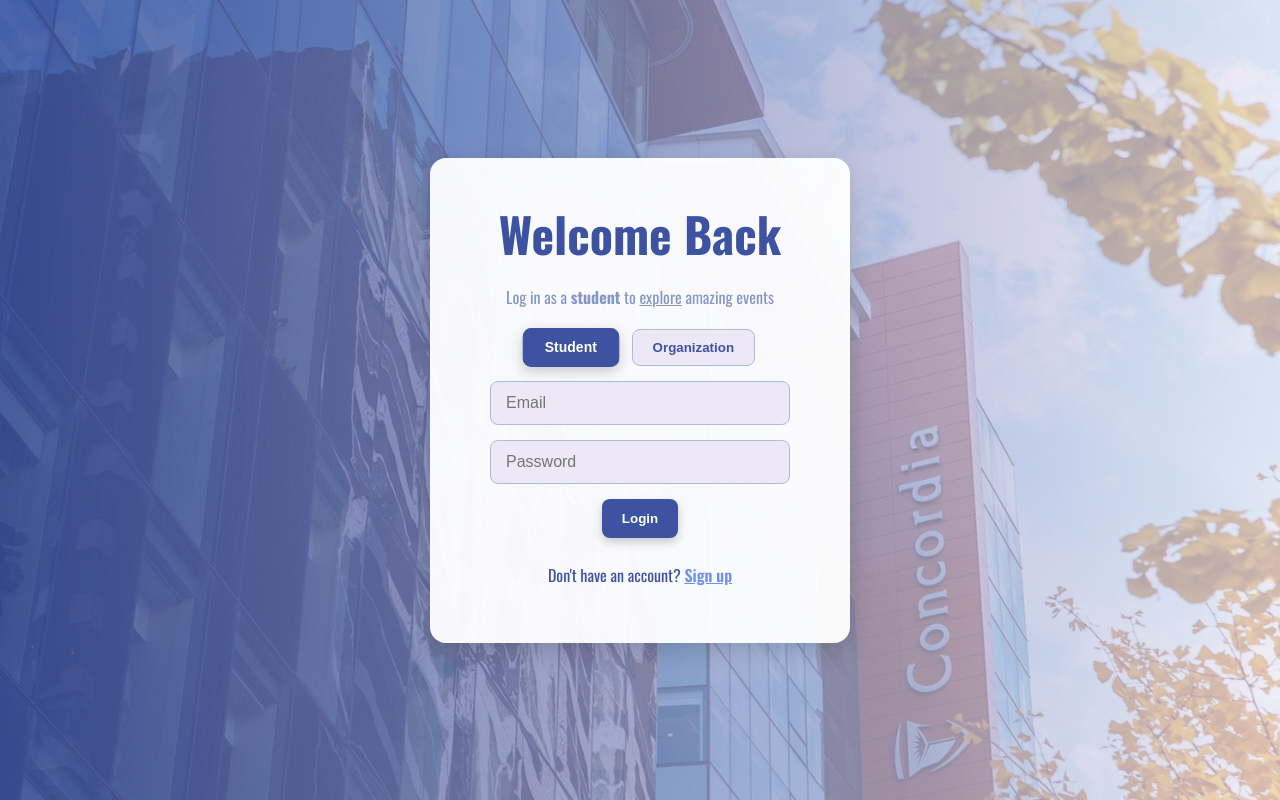
Test case: Login Component › shows error for password missing digit
In the field with placeholder "Email": (640, 402) x1=490 y1=380 x2=790 y2=424, type "test@example.com"
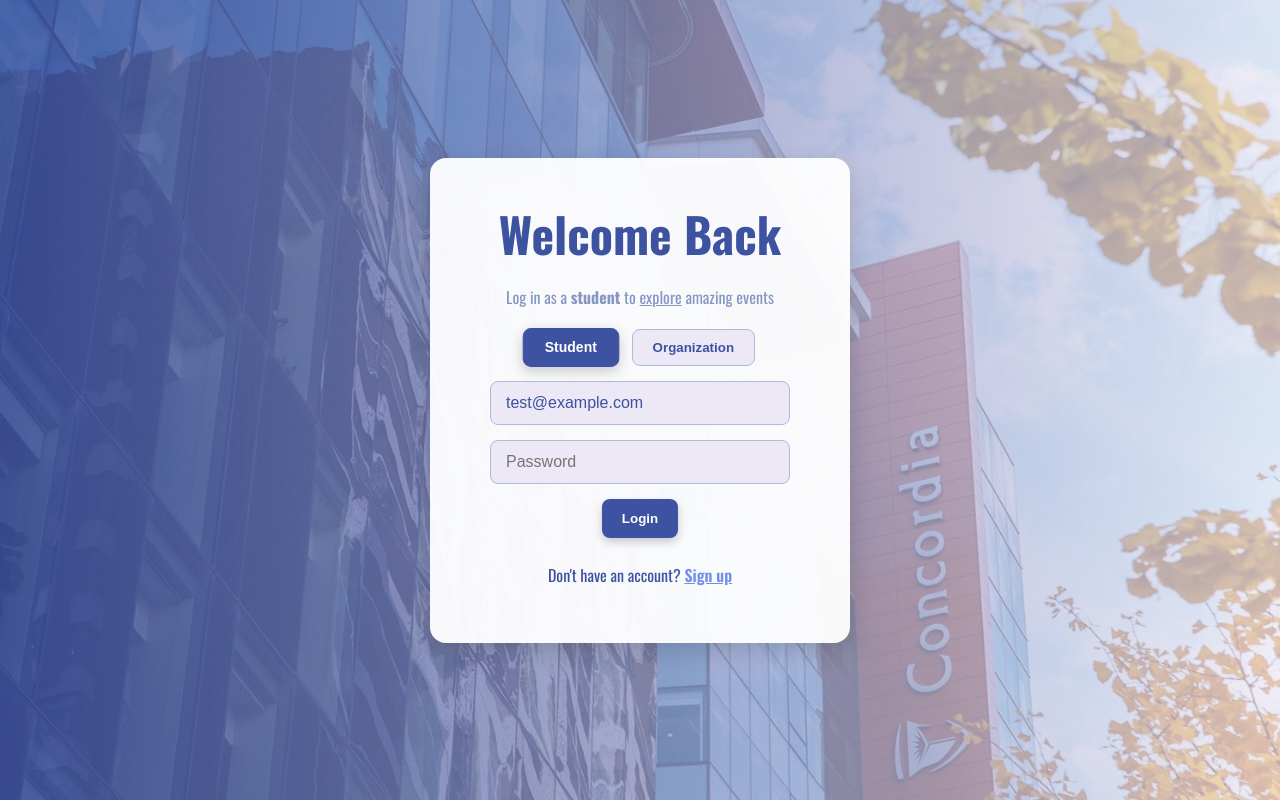
In the password field with placeholder "Password": (640, 462) x1=490 y1=440 x2=790 y2=484, type "Password"
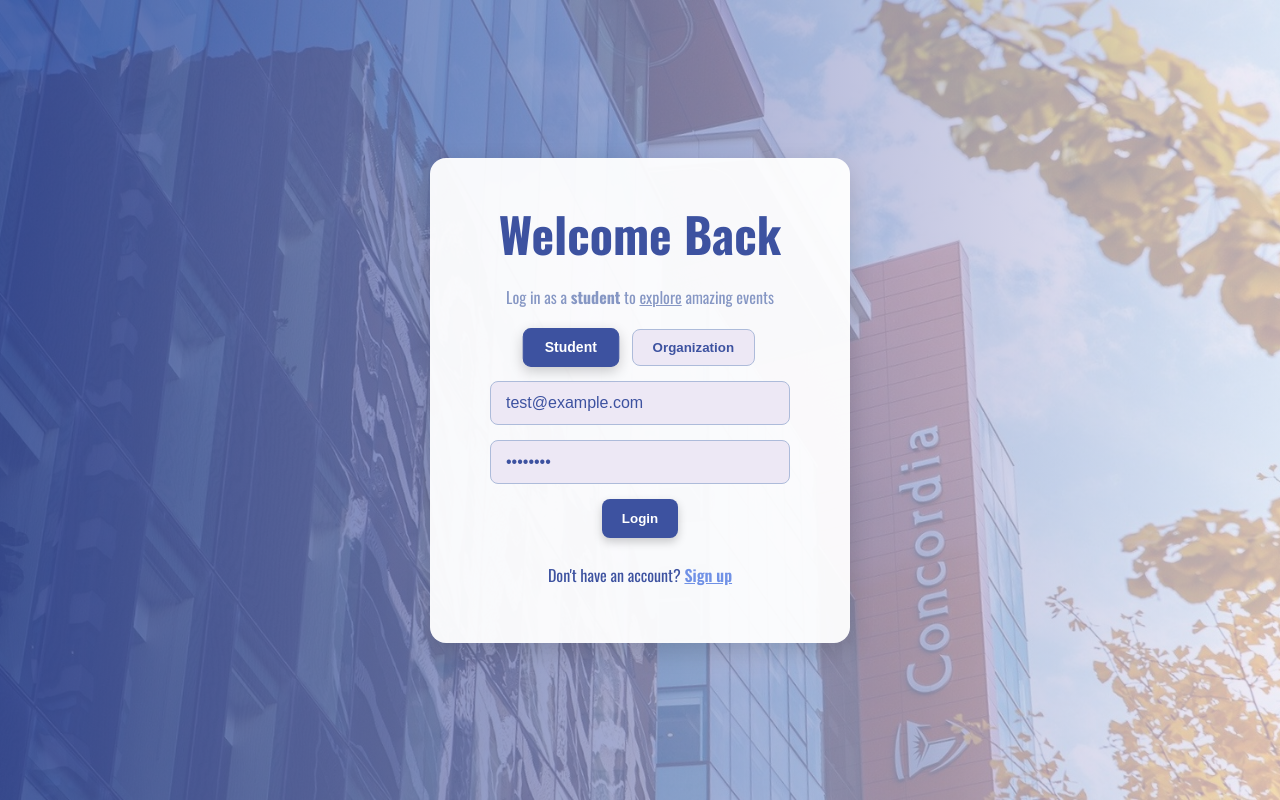
Click the button "Login": (640, 518) x1=602 y1=498 x2=678 y2=538
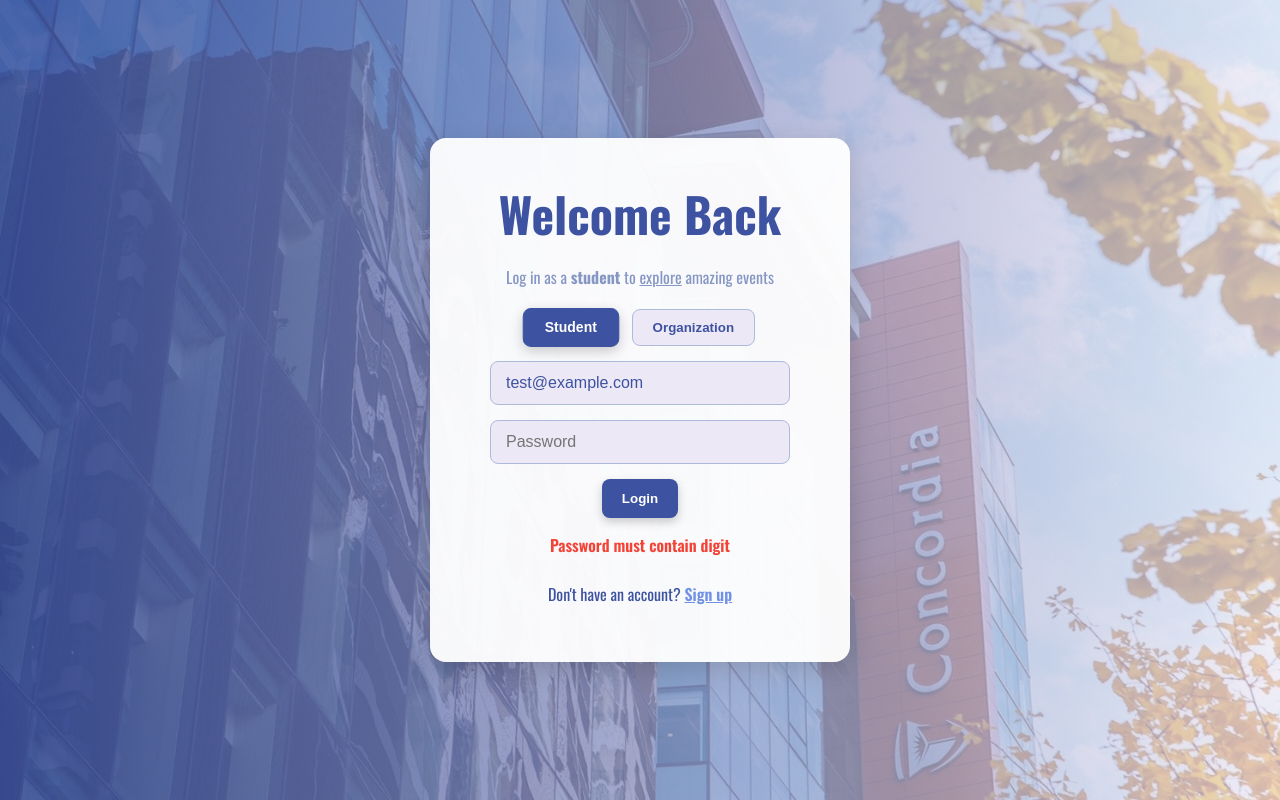
Result: the text "Password must contain digit" is shown at x1=550 y1=533 x2=730 y2=557
